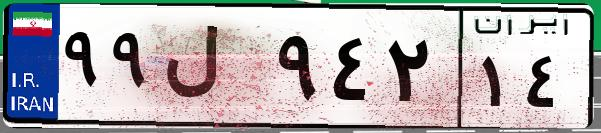1: (475, 38, 525, 113)
2: (385, 28, 445, 110)
4: (330, 28, 385, 110), (525, 38, 570, 115)
9: (270, 28, 330, 110), (57, 26, 110, 100), (110, 28, 158, 98)
ل: (158, 20, 270, 120)
